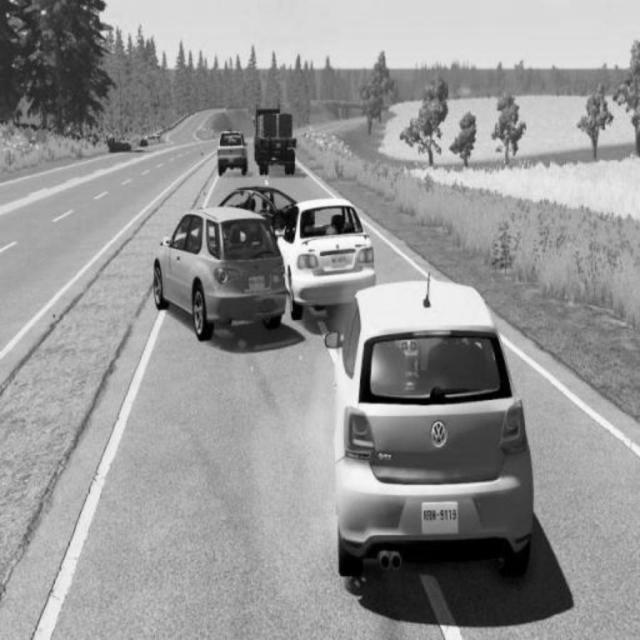accident: (151, 200, 377, 340)
vehicle: (327, 279, 541, 593), (251, 105, 302, 181), (214, 126, 251, 180)
